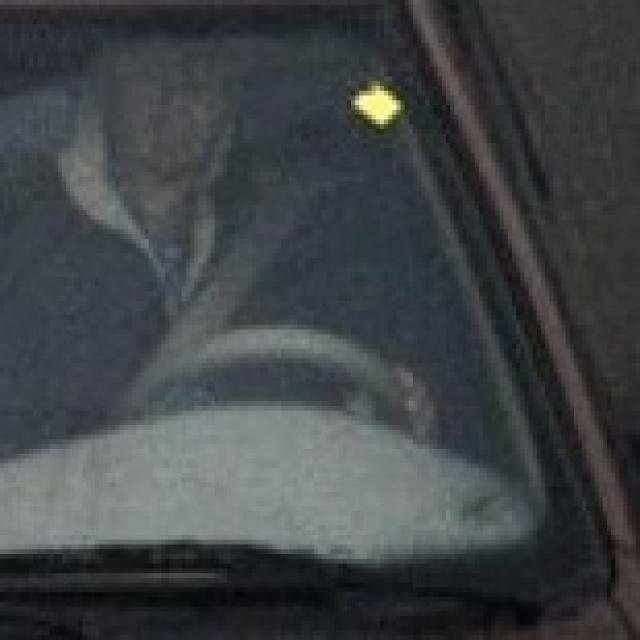windshield: (6, 4, 609, 624)
